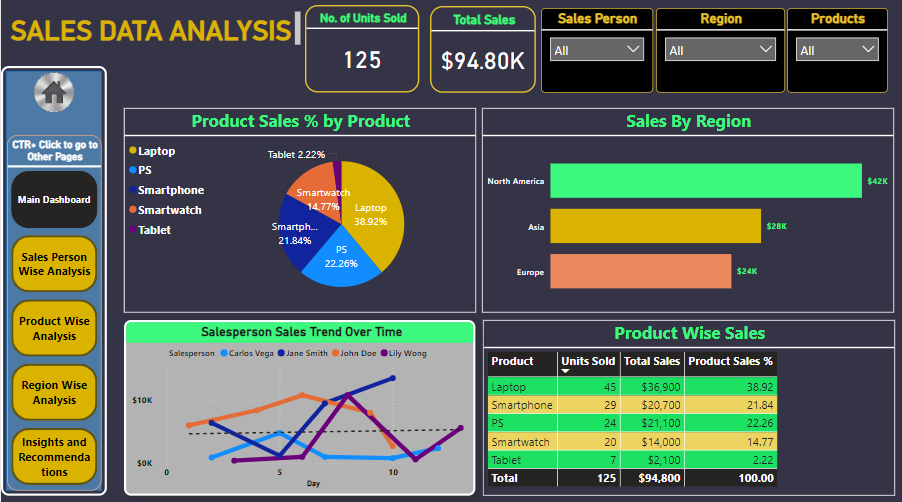

This screenshot's page, from the dashboard's own definition file:
{"tool":"powerbi","page":{"name":"Main Dashboard","canvas":[1280,720],"ordinal":0},"visuals":[{"type":"textbox","box":[8.7,15.9,421.3,57.7],"z":0},{"type":"clusteredBarChart","title":"Sales By Region ","fields":{"Category":["Sales Data.Region"],"Y":["Sales Data.Total Sales"]},"box":[682.4,157.3,584.3,290],"z":1000},{"type":"slicer","title":"Products ","fields":{"Values":["Sales Data.Product"]},"box":[1113.8,15.9,142.8,119.7],"z":2000},{"type":"pieChart","fields":{"Category":["Sales Data.Product"],"Y":["Sales Data.Product Sales %"]},"box":[174.6,157.3,499.2,290],"z":3000},{"type":"tableEx","title":"Product Wise Sales ","fields":{"Values":["Sales Data.Product","Sales Data.Quantity Sold","Sales Data.Total Sales","Sales Data.Product Sales %"]},"box":[682.8,458.4,583.9,248.5],"z":4000},{"type":"lineChart","title":"Salesperson Sales Trend Over Time","fields":{"Category":["Sales Data.Date.Variation.Date Hierarchy.Day"],"Y":["Sales Data.Total Sales"],"Series":["Sales Data.Salesperson"]},"box":[174.9,458.4,498.3,248.5],"z":5000},{"type":"slicer","title":"Sales Person ","fields":{"Values":["Sales Data.Salesperson"]},"box":[764.7,15.9,158.7,119.7],"z":6000},{"type":"slicer","title":"Region","fields":{"Values":["Sales Data.Region"]},"box":[927.7,15.9,183.2,119.7],"z":7000},{"type":"card","title":"Total Sales ","fields":{"Values":["Sales Data.Total Sales"]},"box":[607.4,13,150,122.6],"z":8000},{"type":"card","title":"No. of Units Sold","fields":{"Values":["Sales Data.Quantity Sold"]},"box":[431.4,11.5,161.6,124.1],"z":9000},{"type":"shape","box":[0,98.1,150,608.8],"z":10001},{"type":"pageNavigator","title":"CTR+ Click to go to Other Pages","box":[8.7,196.2,134.2,503.5],"z":10501},{"type":"image","box":[21.6,95.2,106.8,80.8],"z":11002}]}

Visuals, with their boxes in screenshot pixels (x1, y1, x2, y2), scaled from the page's 1280x720 canvas onto the 902x502 screenshot:
textbox: box(6, 11, 303, 51)
"Sales By Region " clusteredBarChart: box(481, 110, 893, 312)
"Products " slicer: box(785, 11, 886, 95)
pieChart - Sales Data.Product x Sales Data.Product Sales %: box(123, 110, 475, 312)
"Product Wise Sales " tableEx: box(481, 320, 893, 493)
"Salesperson Sales Trend Over Time" lineChart: box(123, 320, 474, 493)
"Sales Person " slicer: box(539, 11, 651, 95)
"Region" slicer: box(654, 11, 783, 95)
"Total Sales " card: box(428, 9, 534, 95)
"No. of Units Sold" card: box(304, 8, 418, 95)
shape: box(0, 68, 106, 493)
"CTR+ Click to go to Other Pages" pageNavigator: box(6, 137, 101, 488)
image: box(15, 66, 90, 123)
